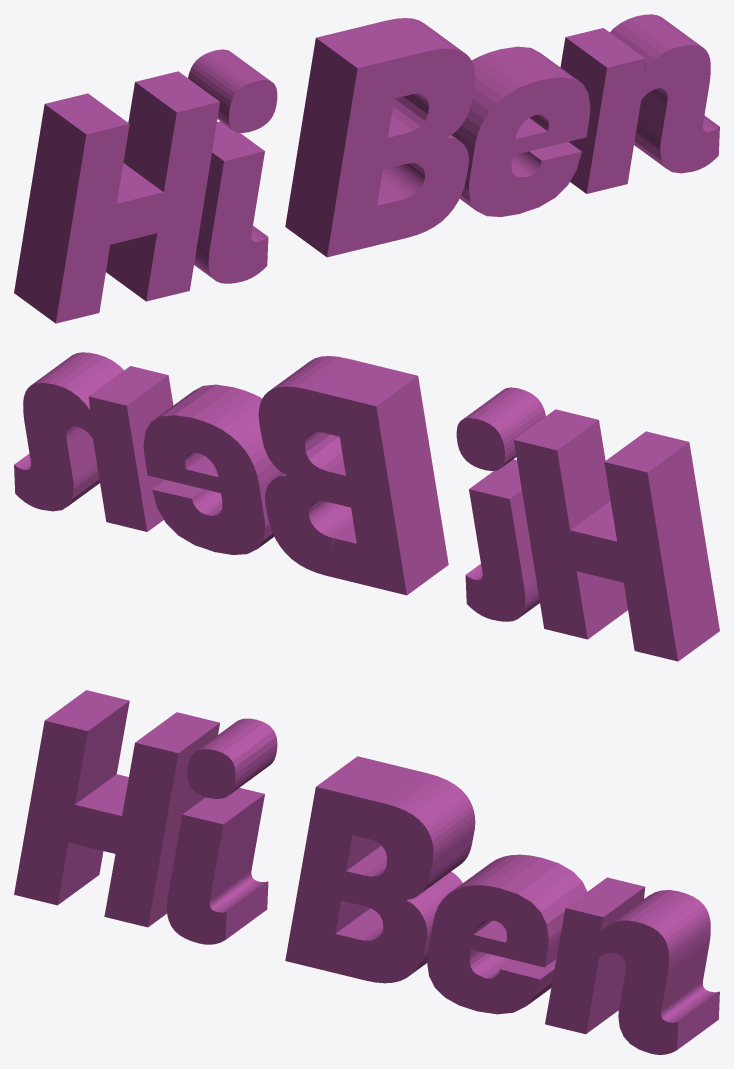
The picture shows the model from 3 angles, top to bottom: view 1: azimuth 30°, elevation 25°; view 2: azimuth 150°, elevation 25°; view 3: azimuth 330°, elevation 25°; orthographic projection.
Parts seen in each view (by area): view 1: 3D_Text_-_H, 3D_Text_-_B, 3D_Text_-_n, 3D_Text_-_e, 3D_Text_-_i; view 2: 3D_Text_-_H, 3D_Text_-_B, 3D_Text_-_n, 3D_Text_-_e, 3D_Text_-_i; view 3: 3D_Text_-_B, 3D_Text_-_H, 3D_Text_-_n, 3D_Text_-_e, 3D_Text_-_i.
Part boxes in pixels (x1,y1,x2,y2): 3D_Text_-_H: (14,71,219,323); 3D_Text_-_B: (285,18,475,257); 3D_Text_-_n: (560,14,719,193); 3D_Text_-_e: (452,46,590,216); 3D_Text_-_i: (188,49,277,283); 3D_Text_-_H: (514,409,719,661); 3D_Text_-_B: (258,356,448,595); 3D_Text_-_n: (14,352,173,531); 3D_Text_-_e: (143,384,281,554); 3D_Text_-_i: (456,387,545,621); 3D_Text_-_B: (285,756,475,983); 3D_Text_-_H: (14,690,219,927); 3D_Text_-_n: (545,877,719,1054); 3D_Text_-_e: (427,854,587,1014); 3D_Text_-_i: (167,718,277,944).
Size of the model in its own units: 138 by 39.05 by 15.
